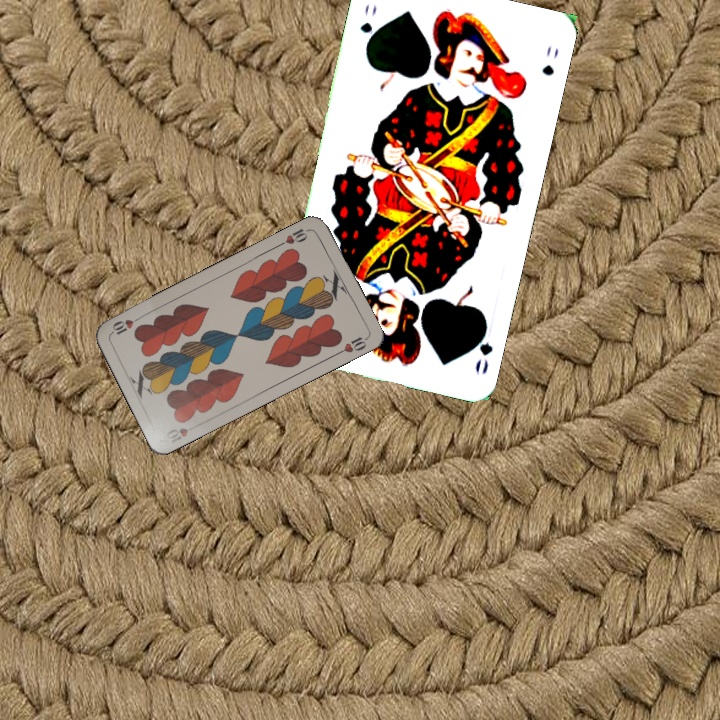GO: (468, 318, 496, 377), (356, 1, 379, 53)
H10: (162, 420, 201, 446), (275, 224, 313, 249)
